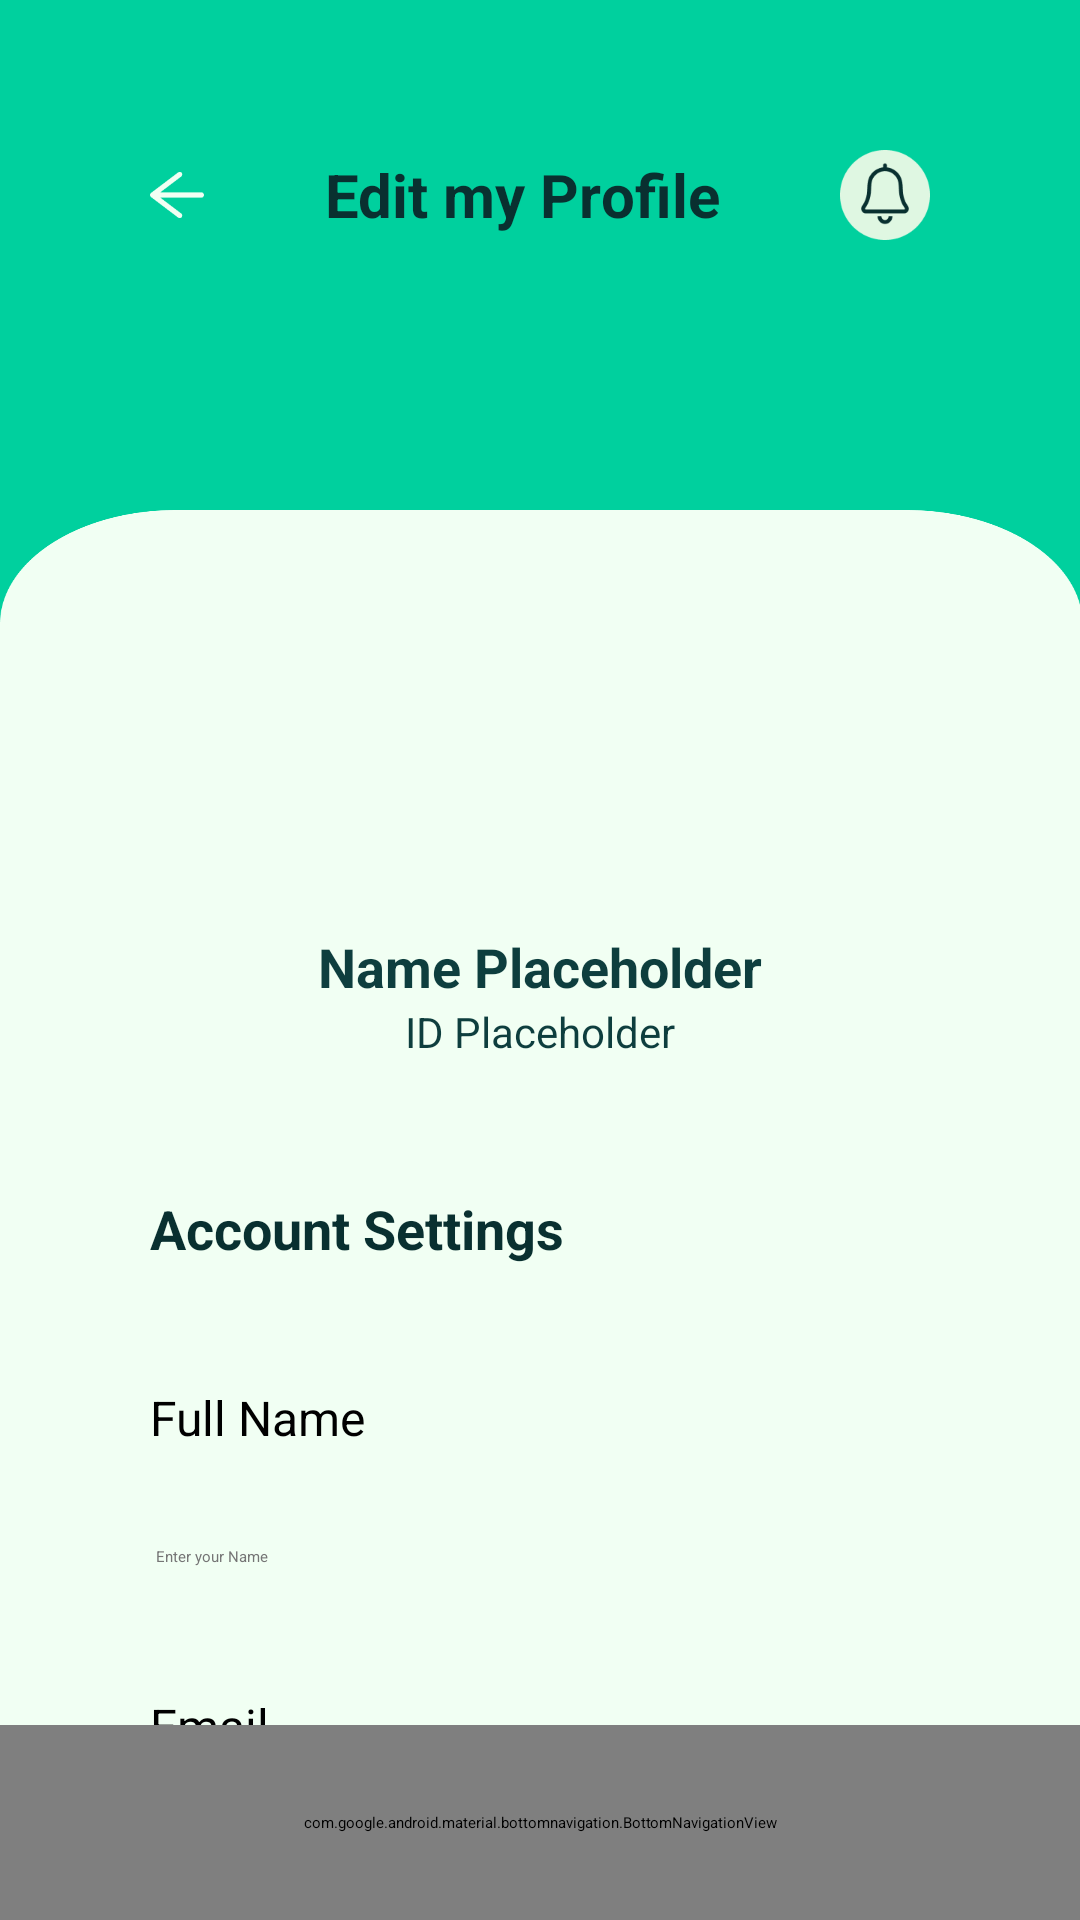

Screen size 1080 x 1920. Icon name, then its center in pixels as (x=x, y=y):
Back Icon: (x=177, y=195)
Notification Icon: (x=885, y=195)
